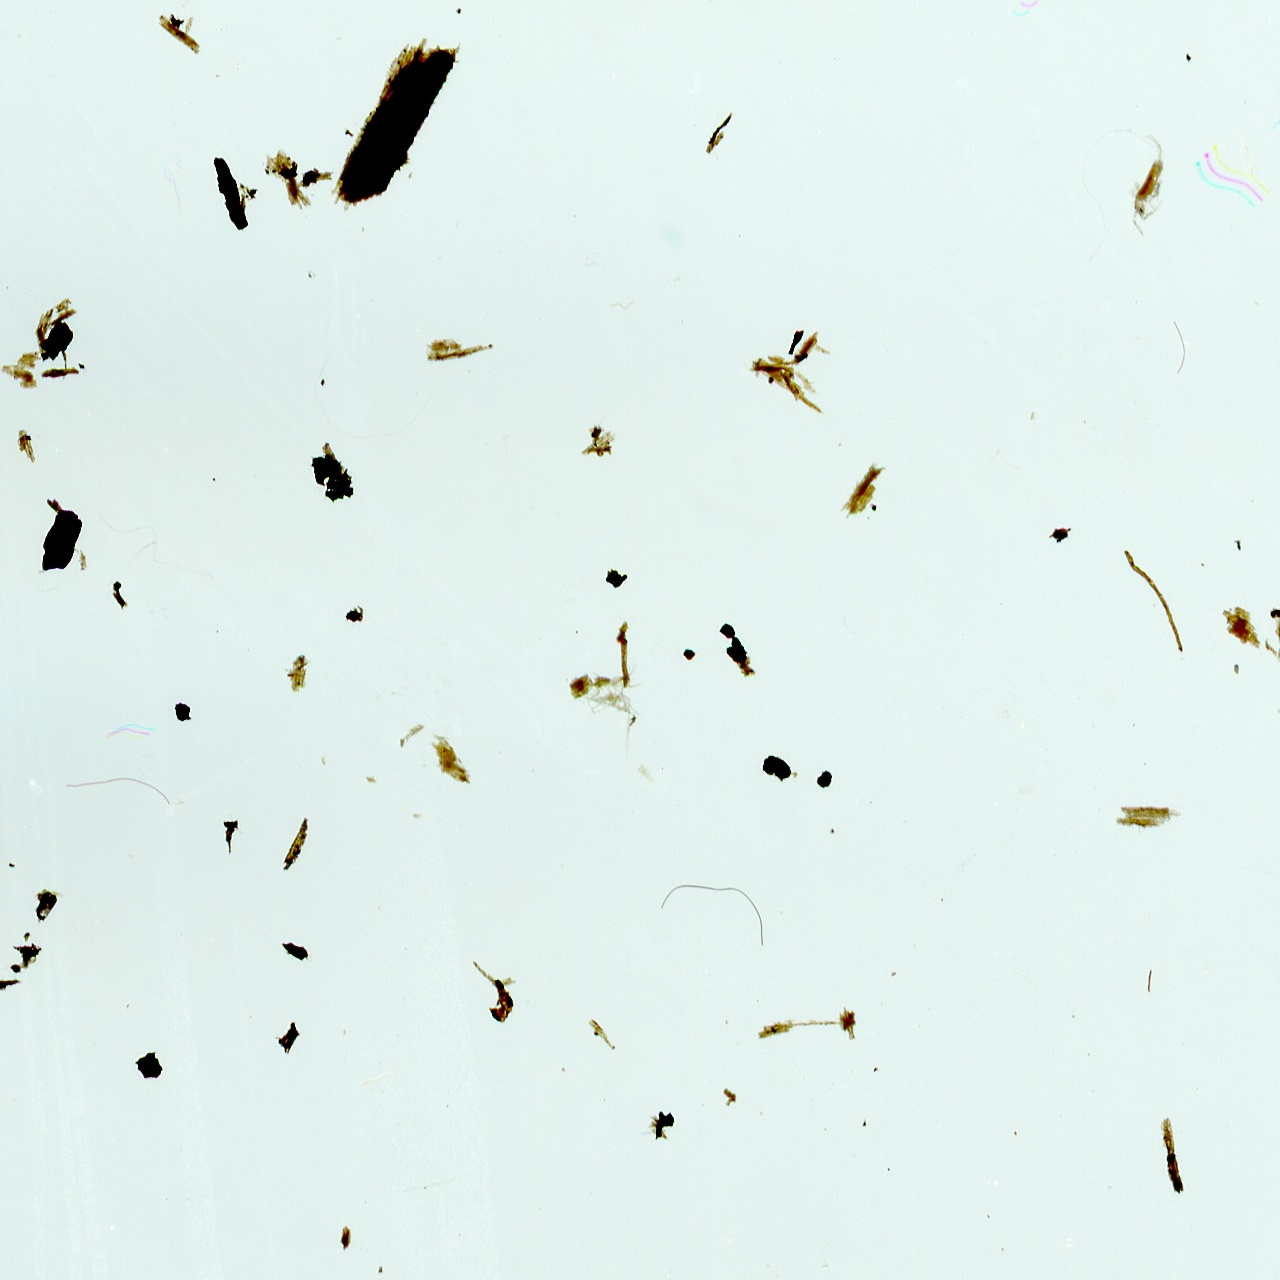arthropod: (1112, 126, 1184, 250)
